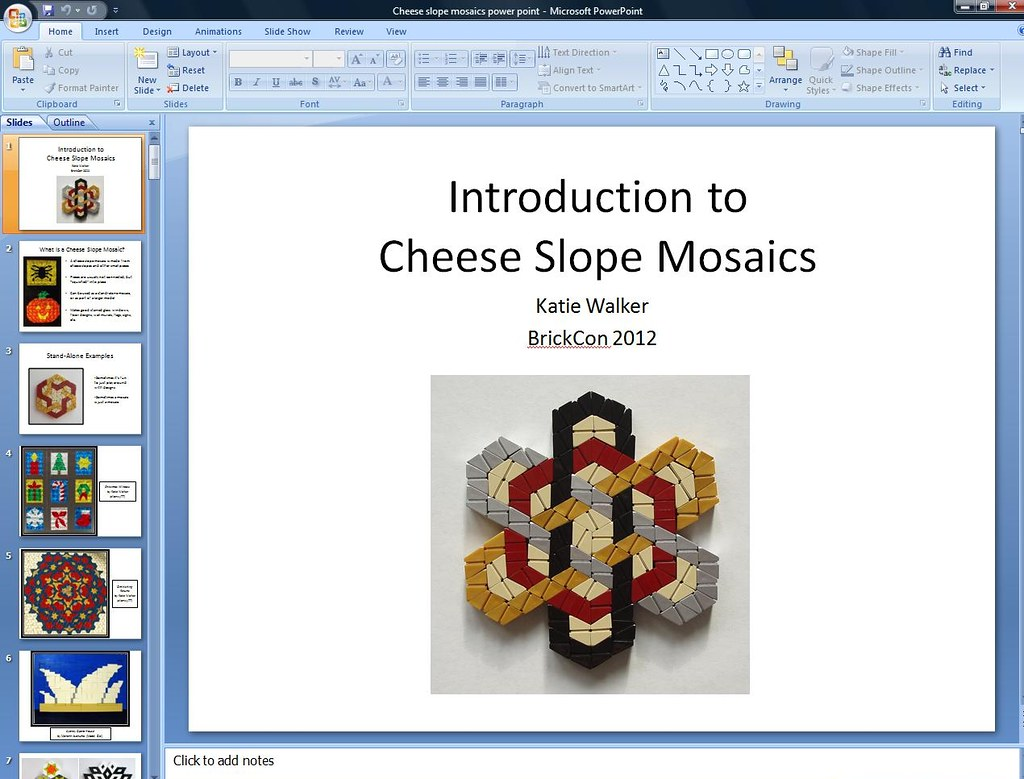button: (19, 137, 141, 232), (18, 650, 142, 742), (19, 241, 142, 333), (19, 548, 142, 639), (20, 446, 141, 538), (19, 343, 141, 434), (18, 754, 142, 779), (536, 78, 643, 96), (130, 47, 165, 98), (769, 45, 803, 95), (804, 45, 837, 95), (840, 62, 926, 80), (934, 78, 1001, 98), (538, 43, 620, 59), (9, 45, 38, 86), (934, 42, 1000, 60), (934, 60, 1000, 78), (840, 80, 919, 94), (839, 45, 907, 61), (38, 81, 121, 94), (164, 43, 220, 61), (537, 63, 602, 78), (46, 113, 99, 131), (1, 113, 49, 132), (3, 3, 33, 33), (39, 23, 84, 41), (165, 80, 211, 97), (193, 24, 244, 39), (39, 61, 84, 78), (166, 62, 208, 77), (263, 26, 313, 38), (40, 45, 78, 60), (415, 49, 441, 69), (148, 144, 162, 180), (140, 25, 173, 39), (442, 49, 467, 67), (510, 49, 535, 67), (324, 73, 350, 90), (378, 74, 404, 91), (492, 74, 518, 91), (332, 25, 365, 38), (285, 73, 307, 90), (997, 1, 1024, 14), (92, 26, 121, 38), (351, 74, 374, 89), (386, 50, 405, 68), (248, 73, 267, 90), (490, 49, 507, 68), (434, 73, 453, 90), (471, 51, 491, 67), (414, 74, 434, 90), (229, 73, 247, 90), (267, 73, 285, 90), (453, 73, 471, 90), (471, 73, 489, 90), (307, 73, 324, 90), (655, 45, 672, 62), (364, 51, 382, 67), (672, 45, 688, 63), (688, 45, 704, 63), (954, 1, 976, 14), (384, 26, 410, 37), (348, 51, 364, 68), (736, 47, 753, 63), (655, 63, 672, 79), (736, 62, 753, 78), (655, 78, 673, 93), (719, 62, 735, 78), (977, 1, 996, 14), (11, 85, 38, 94), (720, 45, 735, 61), (719, 79, 736, 93), (41, 3, 56, 18), (672, 63, 687, 78), (688, 63, 703, 78), (703, 78, 718, 93), (737, 79, 753, 93), (706, 45, 719, 62), (704, 63, 718, 78), (688, 79, 703, 93), (86, 3, 99, 19), (673, 79, 687, 93), (148, 131, 161, 146), (333, 51, 345, 67), (753, 47, 765, 63), (59, 3, 72, 17), (753, 79, 765, 94), (300, 51, 311, 66), (754, 63, 765, 78), (146, 116, 158, 129), (634, 98, 648, 109), (110, 4, 121, 16), (112, 97, 122, 109), (1016, 23, 1024, 37), (74, 5, 84, 16), (396, 99, 407, 109), (919, 99, 928, 109), (148, 773, 159, 779)
common: (524, 327, 659, 348), (532, 293, 650, 317), (3, 241, 15, 257), (2, 445, 14, 460), (3, 753, 14, 768), (2, 345, 14, 358), (3, 651, 14, 665), (3, 140, 15, 152), (3, 548, 14, 561)
container: (166, 115, 1018, 743), (187, 126, 995, 731), (1, 114, 160, 779), (1, 131, 161, 779), (1, 38, 1024, 112), (163, 745, 1024, 779), (652, 41, 930, 110), (410, 42, 651, 113), (1, 441, 148, 543), (1, 338, 147, 440), (1, 646, 147, 748), (1, 235, 146, 337), (2, 135, 145, 237), (1, 545, 148, 644), (226, 42, 408, 110), (148, 132, 162, 779), (3, 41, 125, 111), (126, 41, 224, 112), (538, 42, 648, 95), (655, 45, 767, 94), (934, 41, 1002, 112), (1, 749, 146, 779), (651, 98, 929, 110), (229, 73, 404, 91), (227, 96, 408, 112), (1, 114, 160, 132), (411, 97, 648, 109), (414, 74, 518, 92), (33, 1, 126, 20), (3, 99, 123, 113), (10, 45, 38, 95), (128, 97, 223, 111), (347, 49, 404, 69), (414, 48, 467, 68), (934, 98, 1001, 111), (471, 49, 508, 68), (349, 50, 384, 69), (753, 46, 766, 94), (36, 99, 82, 110), (510, 48, 536, 67), (59, 2, 83, 20)
header: (379, 177, 817, 277), (392, 4, 645, 18), (499, 98, 547, 111), (764, 98, 801, 110), (296, 97, 322, 110), (161, 99, 191, 110), (951, 99, 983, 109)
image: (430, 375, 750, 692)
text-input: (166, 748, 1020, 779), (229, 49, 312, 67), (314, 50, 345, 67)
